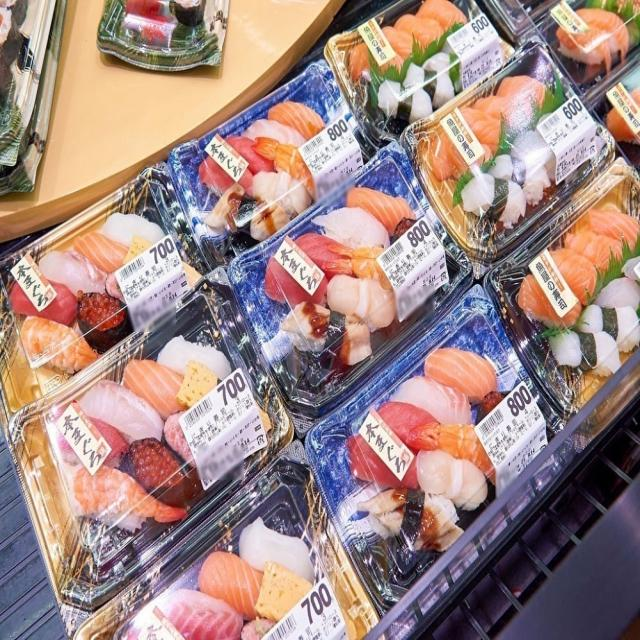sushi: (8, 267, 288, 615), (305, 283, 566, 609), (227, 141, 474, 436), (73, 441, 380, 640), (0, 161, 204, 417), (401, 39, 616, 266), (167, 59, 377, 266), (484, 157, 640, 417), (329, 0, 515, 148), (541, 0, 640, 91)
